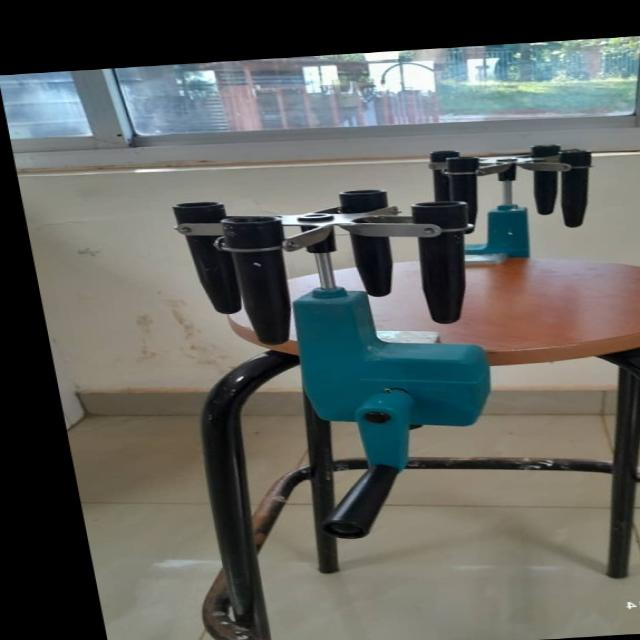Centrifuge: (122, 143, 640, 540)
